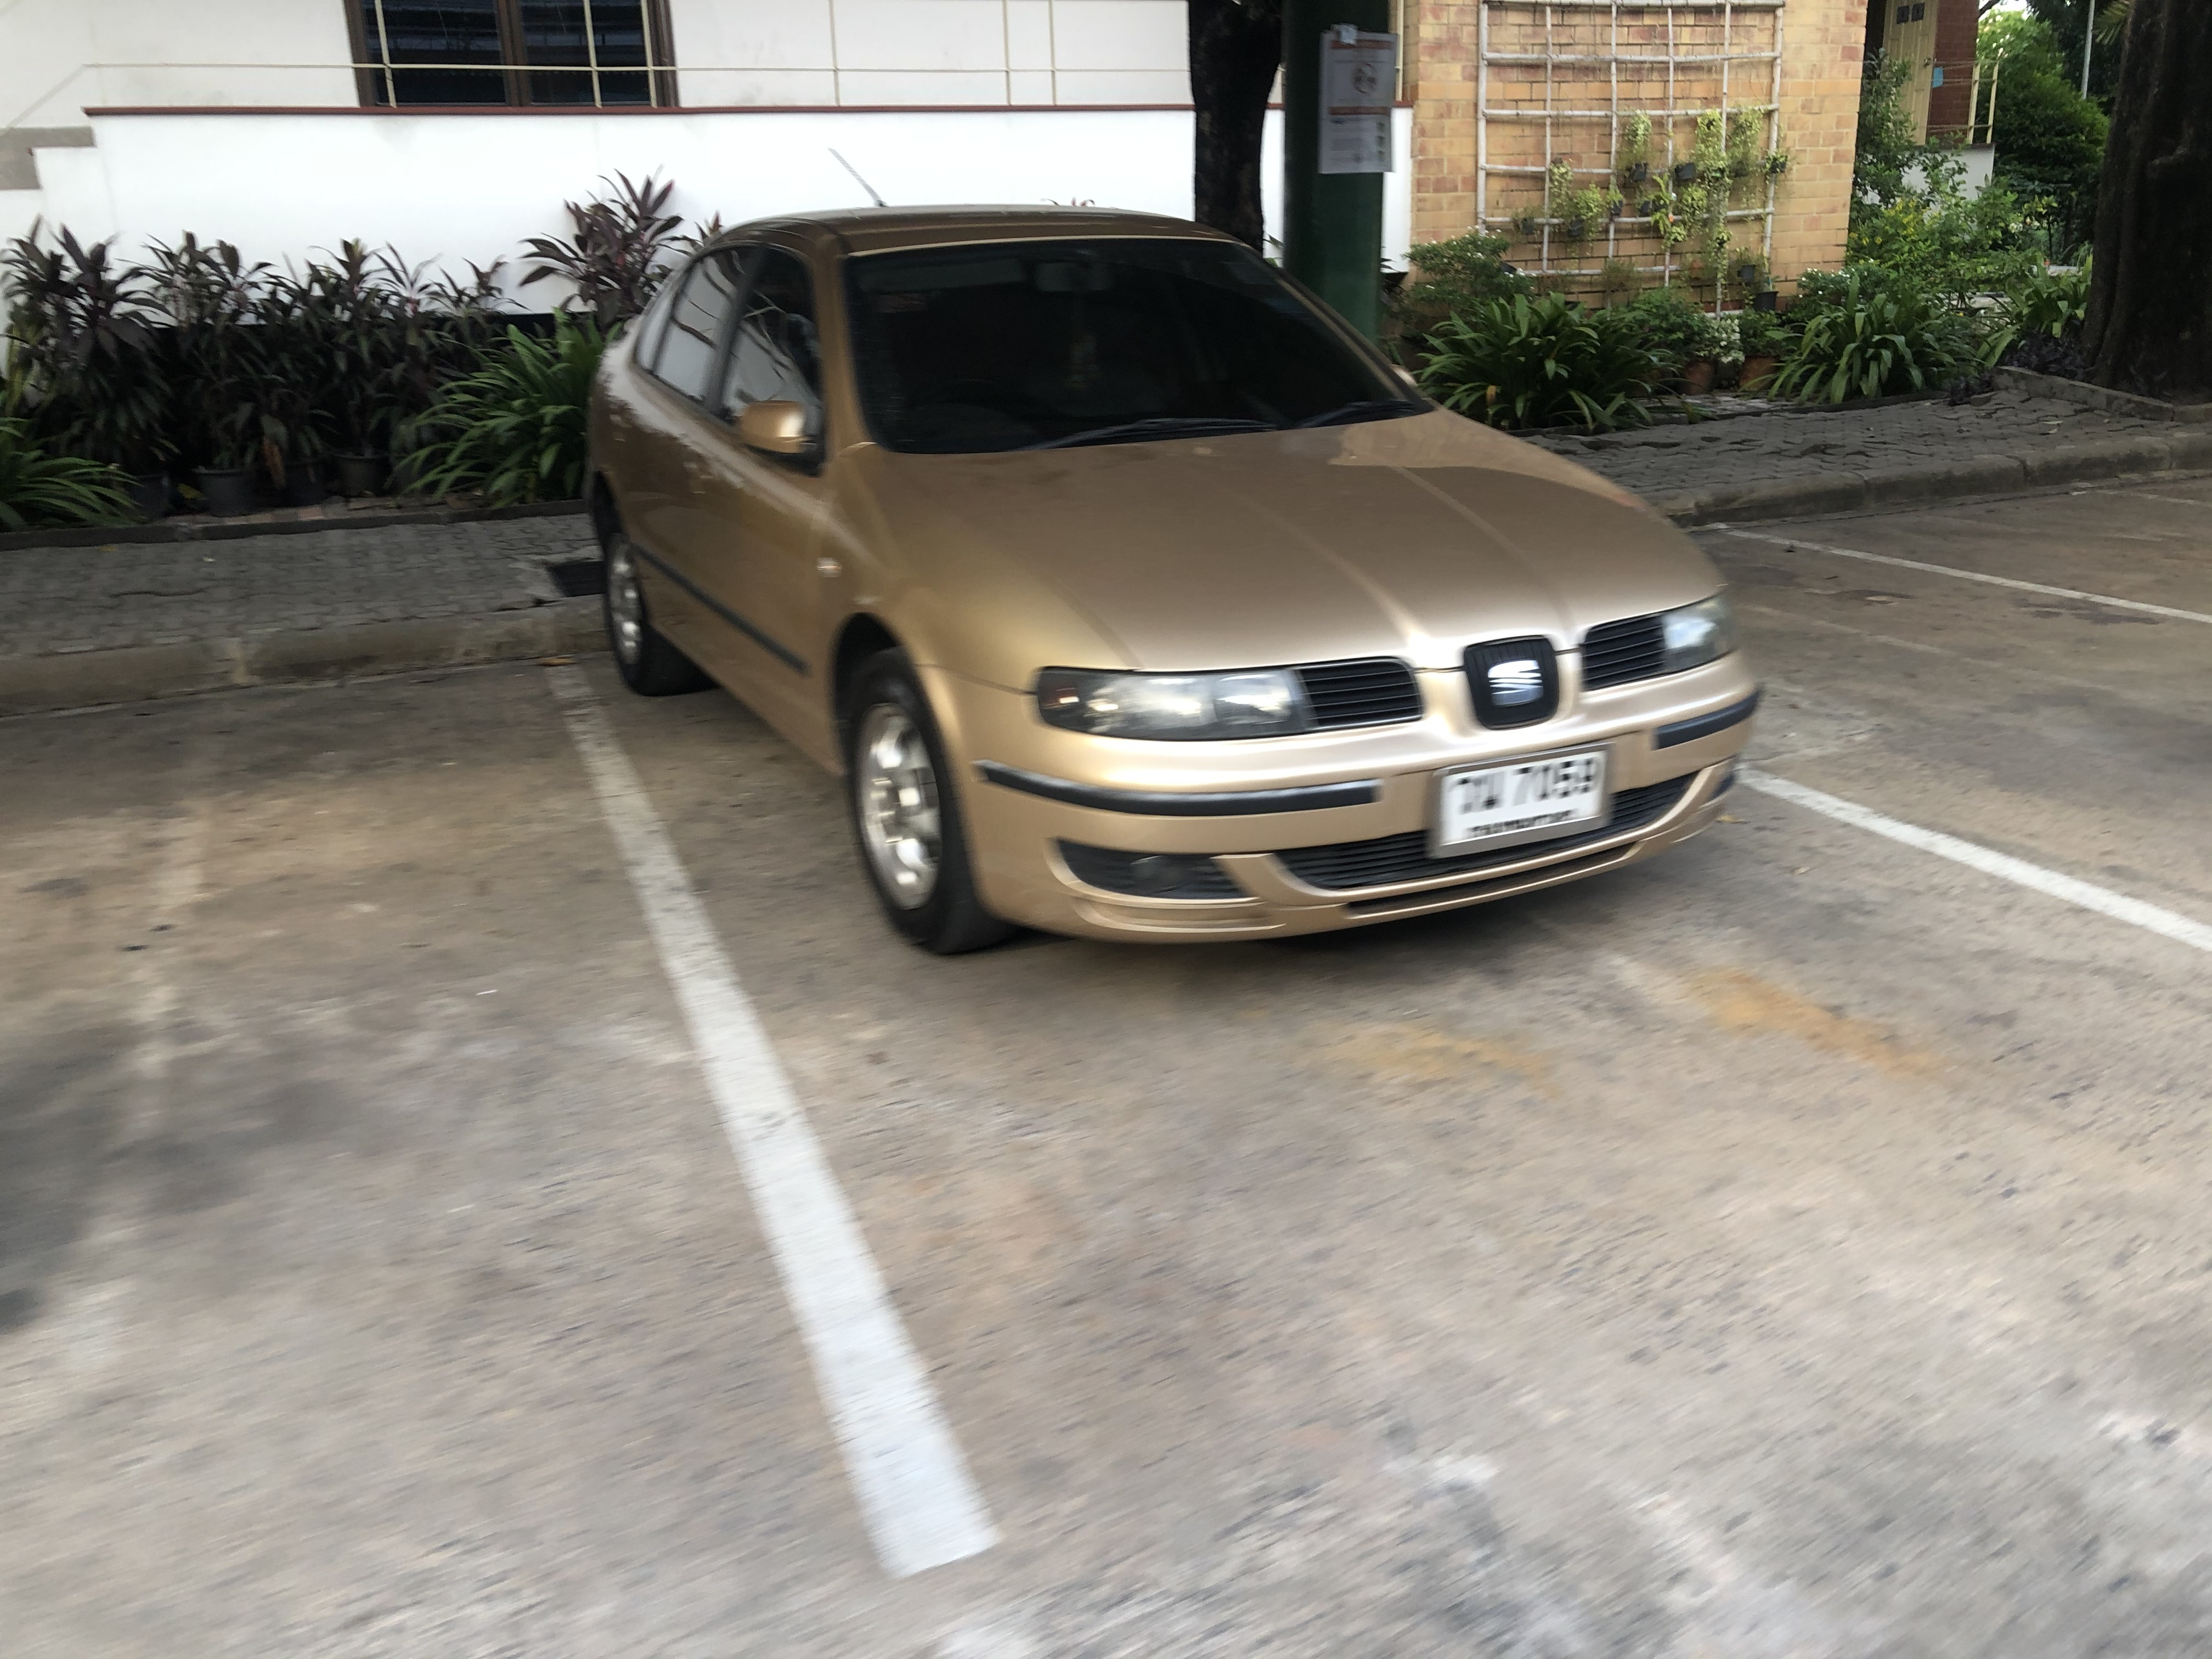in: (1442, 753, 1606, 843)
out: (1418, 741, 1625, 856)
